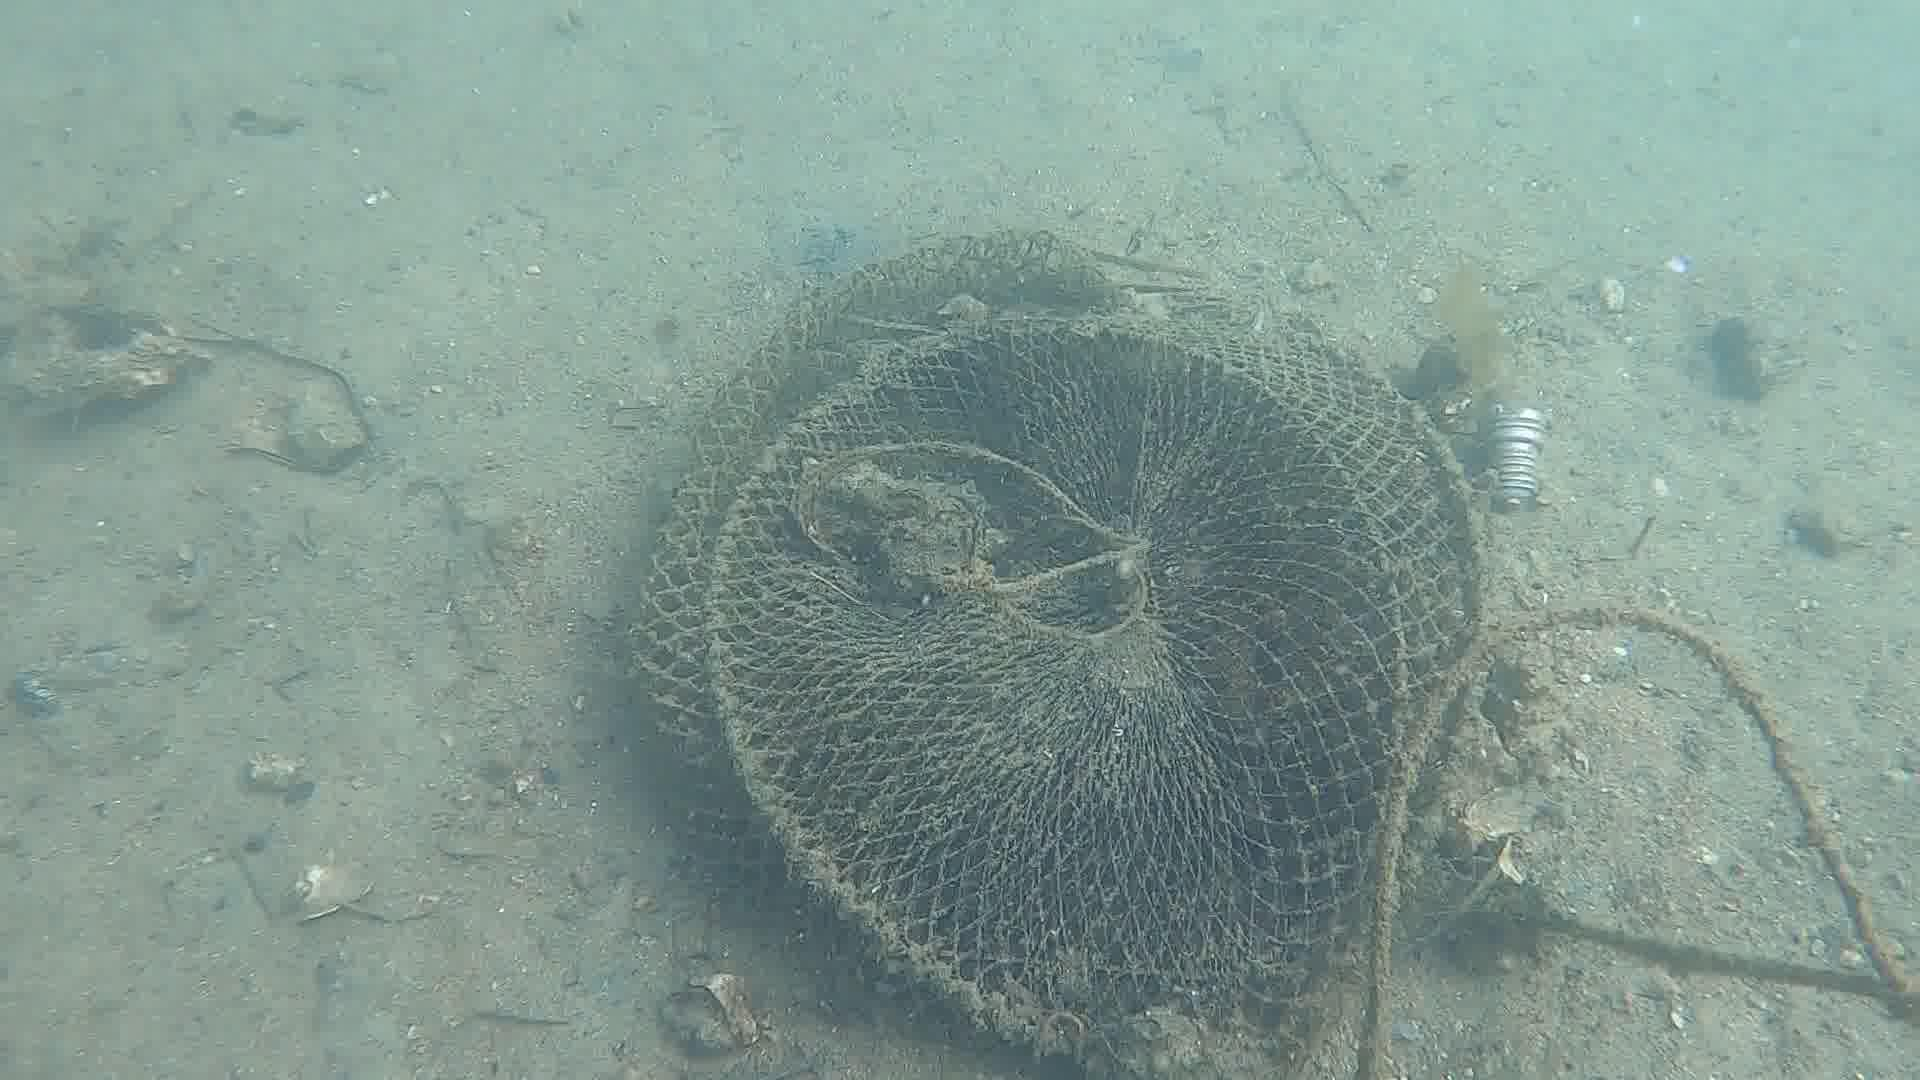circular fish trap: (621, 231, 1501, 1077)
rope: (1346, 589, 1920, 1080)
